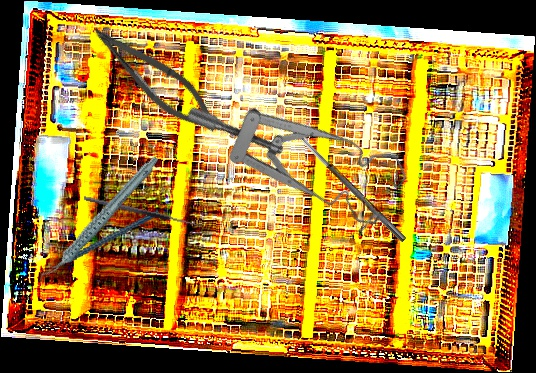Chopper: (30, 209, 167, 286)
Handpiece: (21, 154, 179, 280)
Hook Surgical: (83, 190, 207, 229)
Micro Scissor: (79, 17, 230, 142)
Speculum: (183, 29, 420, 267)
Surgical Spoon: (293, 128, 407, 243)
